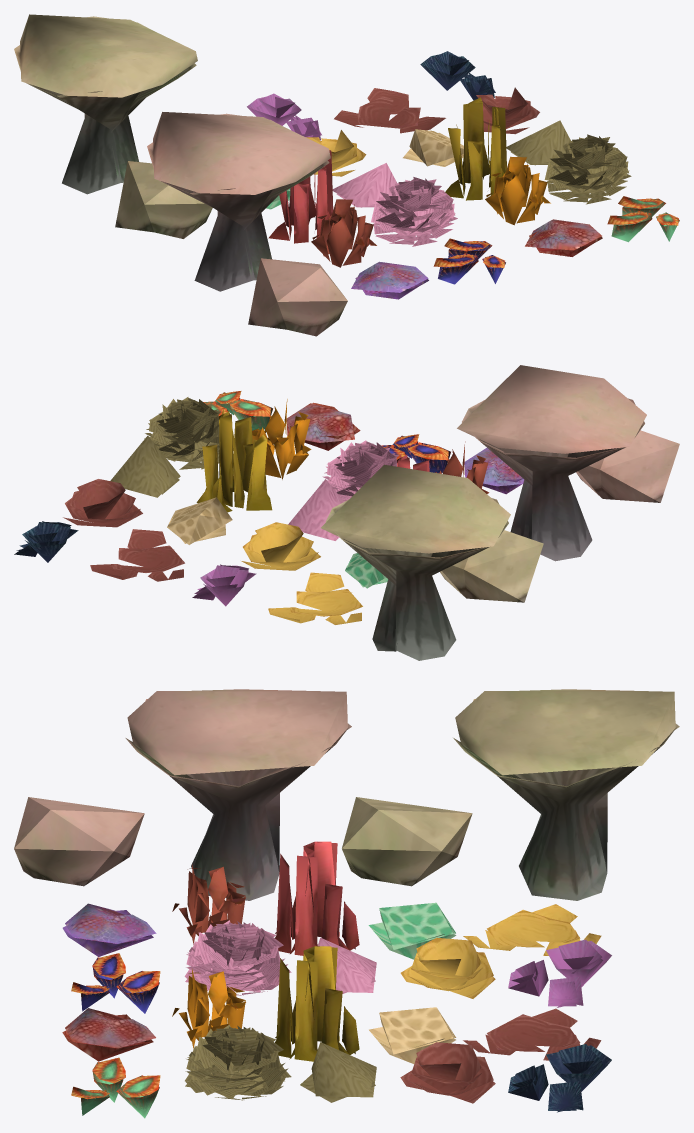
The model's file is coral-set.glb.
3 views of the same model, one above another, from view 1: azimuth 30°, elevation 25°; view 2: azimuth 150°, elevation 25°; view 3: azimuth 270°, elevation 25° (orthographic). The views are drawn at different scales.
Visible parts, largest first — view 1: coral-set; view 2: coral-set; view 3: coral-set.
Part boxes in pixels (left/top/right/bottom): coral-set: left=14, top=14, right=679, bottom=336; coral-set: left=14, top=365, right=679, bottom=660; coral-set: left=14, top=689, right=679, bottom=1118.
Bounding box in the file's own units: 3.77 × 1.2 × 3.75.
4 materials, 4 textured.
